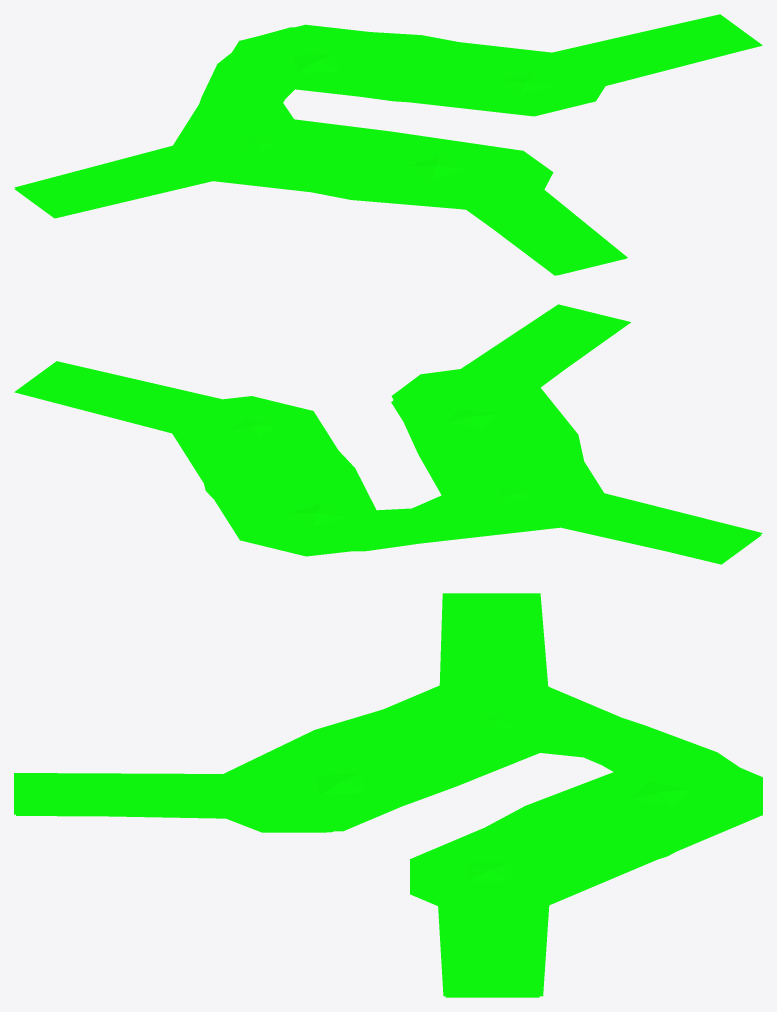
The model's file is s07b_tc3-floor.glb.
The picture shows the model from 3 angles, top to bottom: view 1: azimuth 30°, elevation 25°; view 2: azimuth 150°, elevation 25°; view 3: azimuth 270°, elevation 25°; orthographic projection. The views are drawn at different scales.
Parts seen in each view (by area): view 1: collision_floor-colonly; view 2: collision_floor-colonly; view 3: collision_floor-colonly.
Part boxes in pixels (bbox=[...]): collision_floor-colonly: bbox=[14, 14, 762, 275]; collision_floor-colonly: bbox=[14, 304, 762, 564]; collision_floor-colonly: bbox=[14, 593, 762, 997].
Bounding box in the file's own units: 61 × 0.3027 × 47.92.
